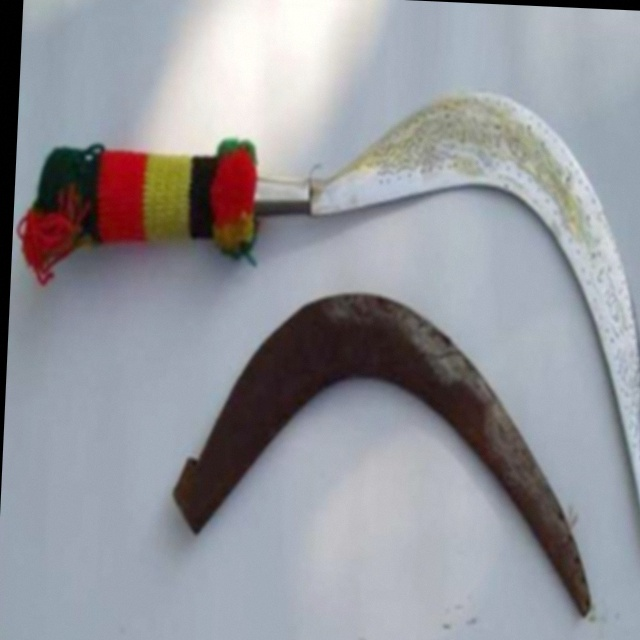Sharp-Object: (19, 68, 640, 571)
